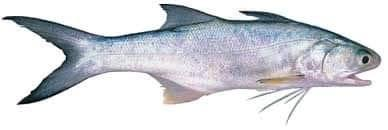Fourfinger Threadfish: (1, 0, 383, 130)
